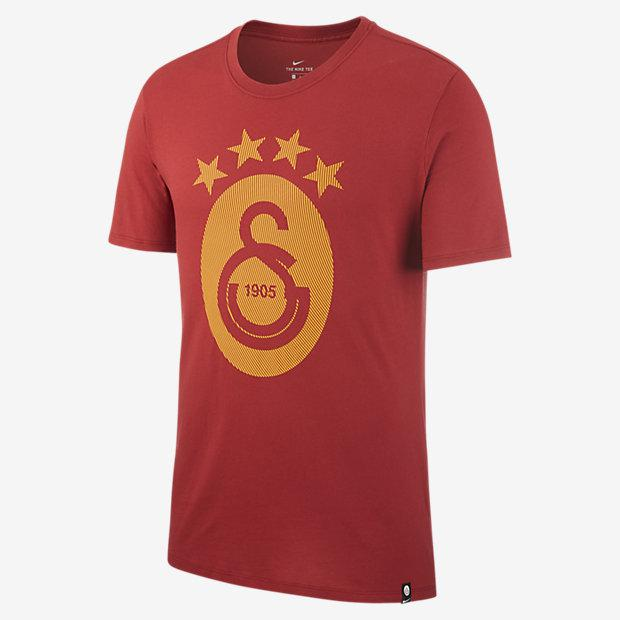teeshirt: (86, 17, 522, 620)
